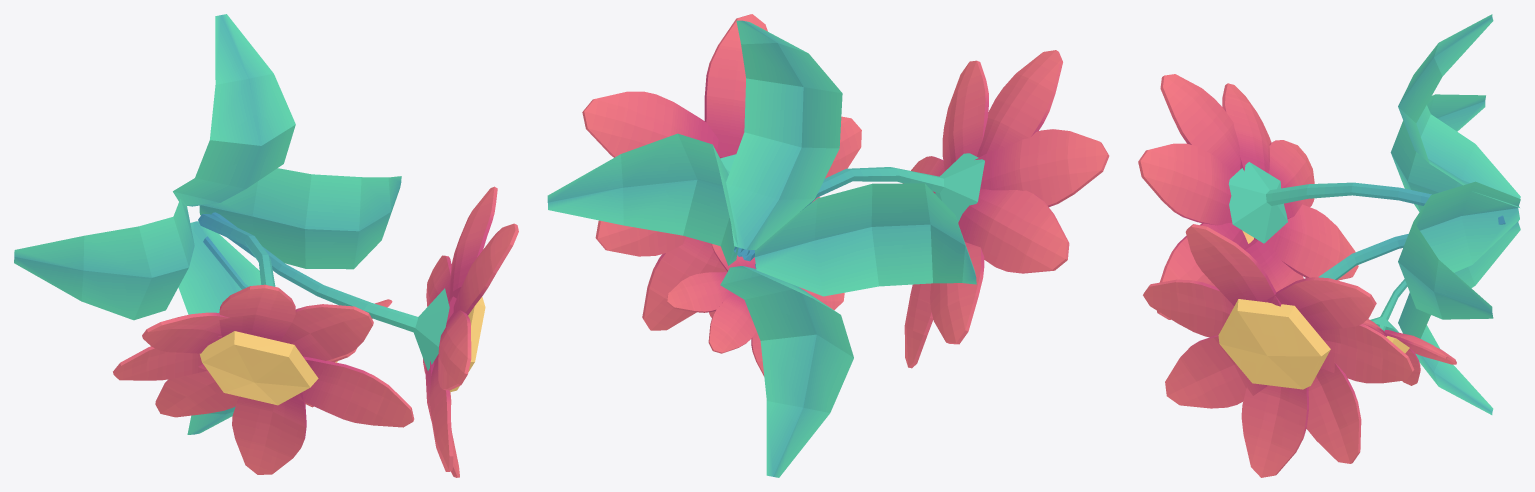
The model's file is flower2.glb.
The picture shows the model from 3 angles, left to right: view 1: azimuth 30°, elevation 25°; view 2: azimuth 150°, elevation 25°; view 3: azimuth 270°, elevation 25°; orthographic projection. The views are drawn at different scales.
Visible parts, largest first — view 1: flower.002_18; view 2: flower.002_18; view 3: flower.002_18.
Part boxes in pixels (x1,y1,x2,y2): flower.002_18: (14,14,518,477); flower.002_18: (547,14,1109,477); flower.002_18: (1138,14,1520,477).
Size of the model in its own units: 2.29 by 2.15 by 1.82.
1 material, 1 textured.
